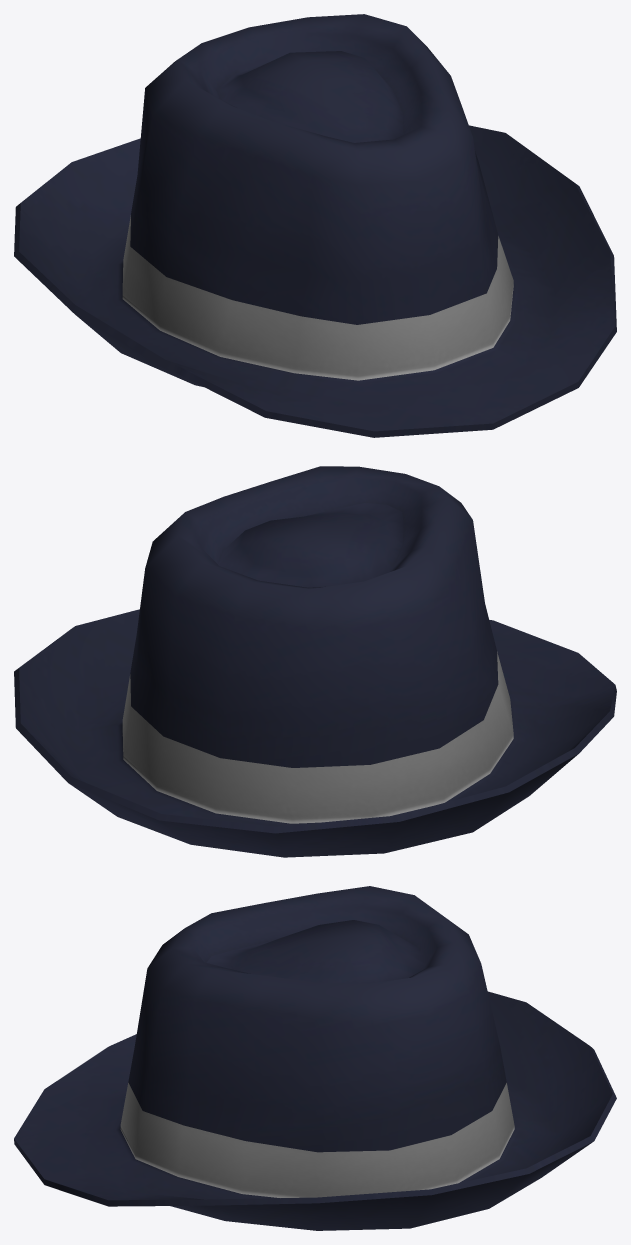
File: Hat.FBX
3 renders of one model, top to bottom at view 1: azimuth 30°, elevation 25°; view 2: azimuth 150°, elevation 25°; view 3: azimuth 270°, elevation 25°, orthographic. The views are drawn at different scales.
Parts seen in each view (by area): view 1: Hat; view 2: Hat; view 3: Hat.
Boxes of the visible parts, x1,y1,x2,y2 form: Hat: (14,14,616,437); Hat: (14,466,616,857); Hat: (14,886,616,1230).
Size of the model in its own units: 49.2 by 21.45 by 55.98.
Materials: 1 (1 with a texture image).
